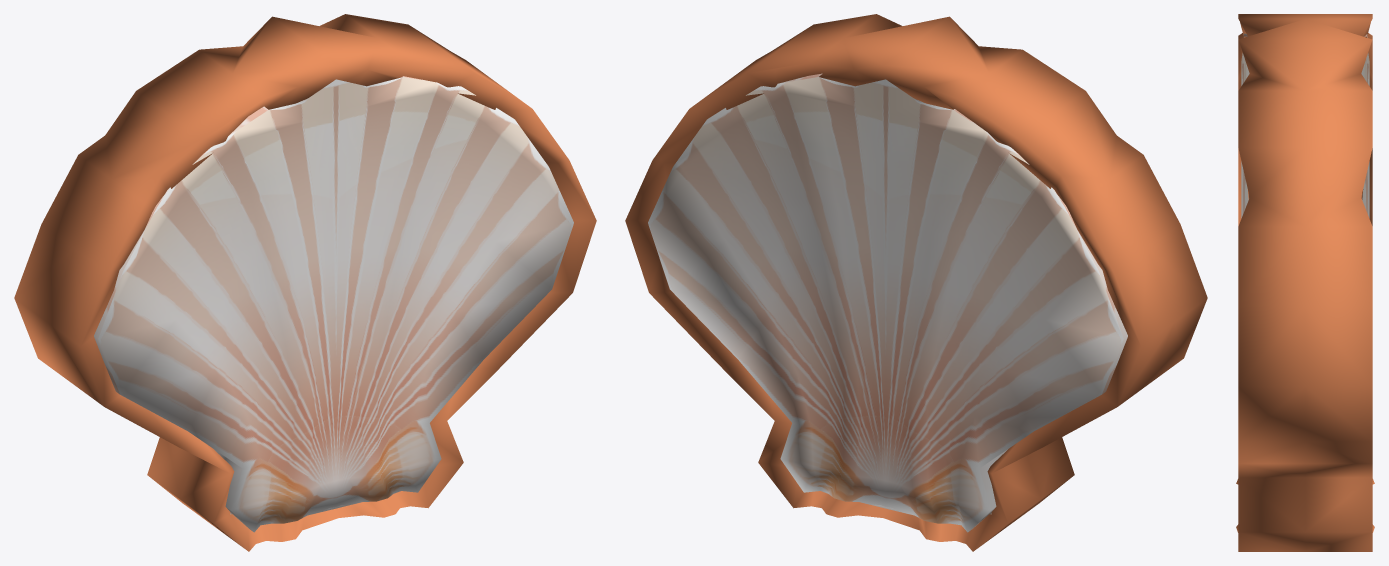
File: Item-Score.fbx
3 views of the same model, side by side, from view 1: azimuth 30°, elevation 25°; view 2: azimuth 150°, elevation 25°; view 3: azimuth 270°, elevation 25° (orthographic).
Visible parts, largest first — view 1: Cube.002, Cube.001; view 2: Cube.002, Cube.001; view 3: Cube.001, Cube.002.
Boxes of the visible parts, box(x1,y1,x2,y2) form: Cube.002: box(94, 76, 573, 532); Cube.001: box(14, 14, 596, 551); Cube.002: box(648, 73, 1127, 532); Cube.001: box(625, 14, 1207, 551); Cube.001: box(1236, 14, 1374, 551); Cube.002: box(1241, 33, 1369, 218).
Size of the model in its own units: 429 by 370 by 99.34.
